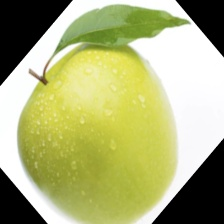apple: (12, 0, 196, 195)
